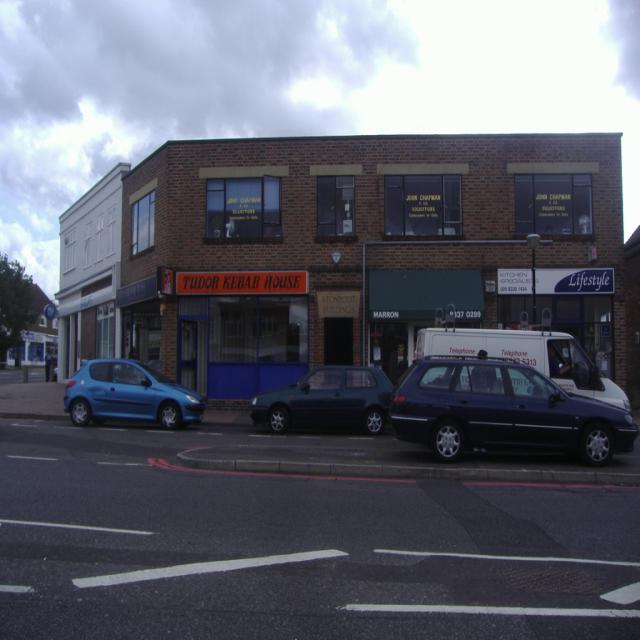car: (387, 352, 637, 463), (59, 351, 203, 430), (252, 363, 391, 433)
